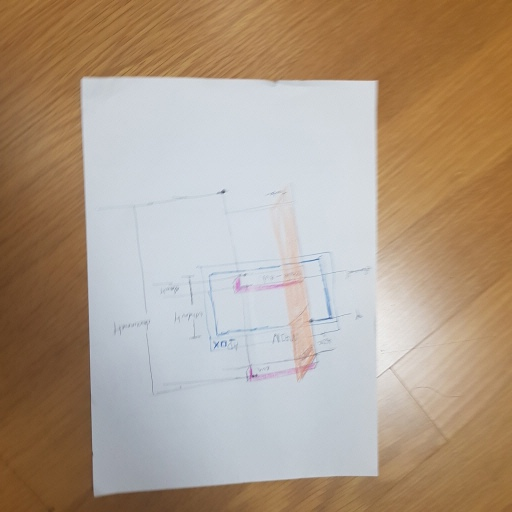Paper_2: (71, 58, 392, 502)
